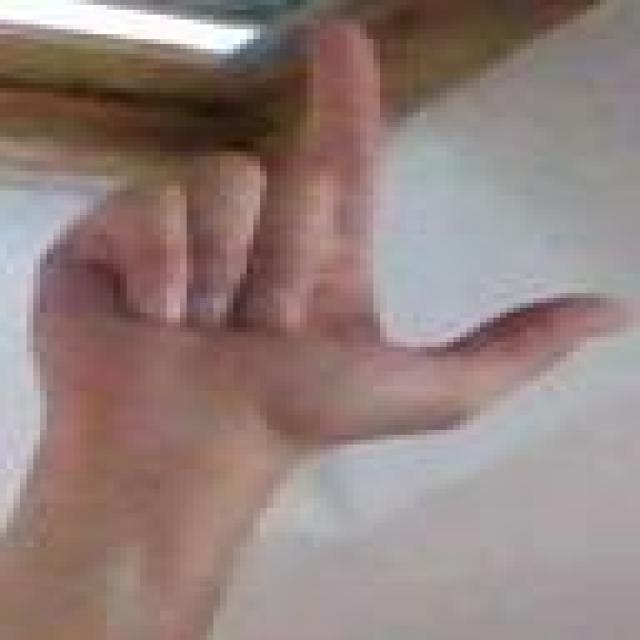L: (17, 4, 640, 455)
